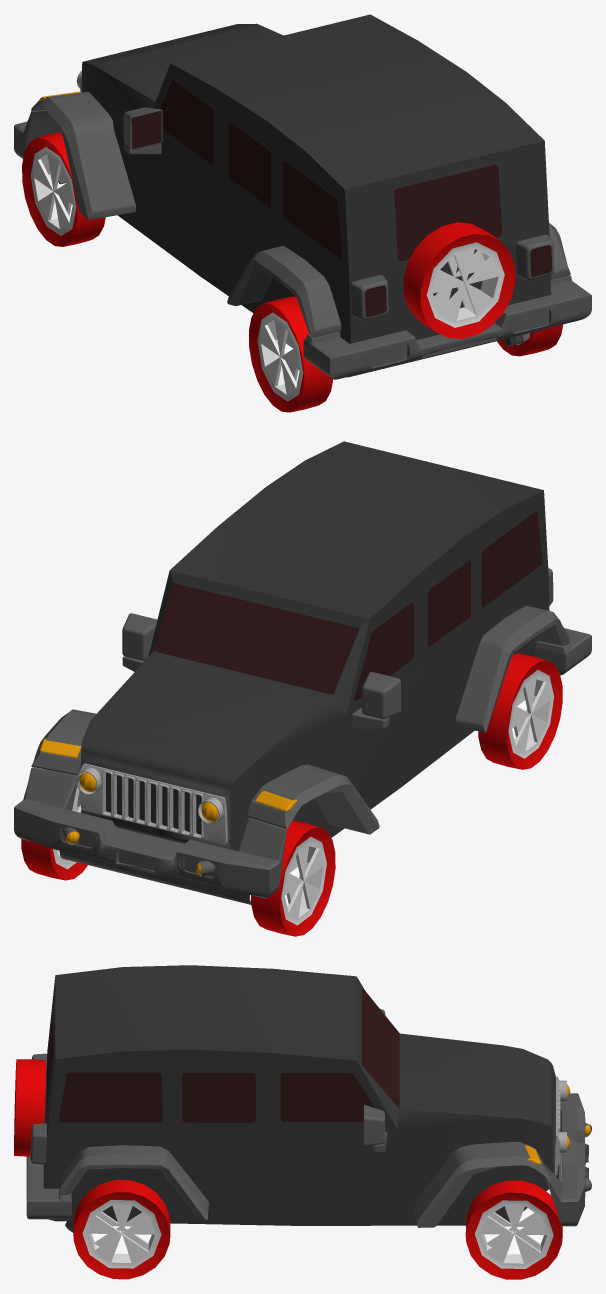
Rendered from Jeep.fbx.
3 views of the same model, one above another, from view 1: azimuth 30°, elevation 25°; view 2: azimuth 150°, elevation 25°; view 3: azimuth 270°, elevation 25° (orthographic). The views are drawn at different scales.
Parts seen in each view (by area): view 1: Jeep_Main_Body, Jeep_Spare_Tire, Jeep_Back_Bumper, Jeep_Back_Tires, Jeep_Front_Left_Bumper, Jeep_Back_Window, Jeep_Front_Tires, Jeep_Back_Left_Bumper, Jeep_Back_Left_Window, Jeep_Front_Left_Window, Jeep_Middle_Left_Window, Jeep_Right_Back_Light (+4 smaller); view 2: Jeep_Main_Body, Jeep_Front_Bumper, Jeep_WindShield, Jeep_Front_Tires, Jeep_Back_Tires, Jeep_Grill_And_Top_Light, Jeep_Back_Left_Bumper, Jeep_Front_Left_Bumper, Jeep_Back_Left_Window, Jeep_Front_Left_Window, Jeep_Middle_Left_Window, Jeep_Front_Right_Bumper (+4 smaller); view 3: Jeep_Main_Body, Jeep_Back_Tires, Jeep_Front_Tires, Jeep_Back_Right_Window, Jeep_Front_Right_Bumper, Jeep_Front_Right_Window, Jeep_Back_Right_Bumper, Jeep_Middle_Right_Window, Jeep_Front_Bumper, Jeep_WindShield, Jeep_Spare_Tire, Jeep_Back_Bumper (+3 smaller).
Part boxes in pixels (x1=…): Jeep_Main_Body: x1=82, y1=14, x2=550, y2=377; Jeep_Spare_Tire: x1=403, y1=222, x2=515, y2=338; Jeep_Back_Bumper: x1=303, y1=275, x2=591, y2=379; Jeep_Back_Tires: x1=249, y1=296, x2=563, y2=412; Jeep_Front_Left_Bumper: x1=31, y1=91, x2=135, y2=219; Jeep_Back_Window: x1=394, y1=164, x2=501, y2=261; Jeep_Front_Tires: x1=22, y1=132, x2=105, y2=246; Jeep_Back_Left_Bumper: x1=227, y1=245, x2=341, y2=337; Jeep_Back_Left_Window: x1=283, y1=160, x2=342, y2=259; Jeep_Front_Left_Window: x1=160, y1=79, x2=214, y2=165; Jeep_Middle_Left_Window: x1=228, y1=121, x2=271, y2=207; Jeep_Right_Back_Light: x1=516, y1=234, x2=554, y2=280; Jeep_Main_Body: x1=81, y1=441, x2=549, y2=850; Jeep_Front_Bumper: x1=14, y1=767, x2=286, y2=898; Jeep_WindShield: x1=154, y1=583, x2=359, y2=694; Jeep_Front_Tires: x1=21, y1=787, x2=335, y2=936; Jeep_Back_Tires: x1=478, y1=653, x2=562, y2=769; Jeep_Grill_And_Top_Light: x1=75, y1=763, x2=227, y2=844; Jeep_Back_Left_Bumper: x1=455, y1=605, x2=570, y2=732; Jeep_Front_Left_Bumper: x1=247, y1=764, x2=379, y2=834; Jeep_Back_Left_Window: x1=481, y1=511, x2=542, y2=606; Jeep_Front_Left_Window: x1=354, y1=602, x2=413, y2=700; Jeep_Middle_Left_Window: x1=428, y1=560, x2=470, y2=646; Jeep_Front_Right_Bumper: x1=31, y1=709, x2=96, y2=775; Jeep_Main_Body: x1=44, y1=965, x2=556, y2=1225; Jeep_Back_Tires: x1=73, y1=1180, x2=170, y2=1279; Jeep_Front_Tires: x1=465, y1=1180, x2=562, y2=1279; Jeep_Back_Right_Window: x1=58, y1=1072, x2=161, y2=1122; Jeep_Front_Right_Bumper: x1=414, y1=1141, x2=548, y2=1227; Jeep_Front_Right_Window: x1=280, y1=1073, x2=375, y2=1122; Jeep_Back_Right_Bumper: x1=59, y1=1145, x2=209, y2=1219; Jeep_Middle_Right_Window: x1=182, y1=1072, x2=255, y2=1122; Jeep_Front_Bumper: x1=544, y1=1093, x2=588, y2=1226; Jeep_WindShield: x1=362, y1=987, x2=399, y2=1108; Jeep_Spare_Tire: x1=14, y1=1059, x2=45, y2=1156; Jeep_Back_Bumper: x1=26, y1=1156, x2=71, y2=1219.
Size of the model in its own units: 0.8822 by 0.7346 by 1.76.
